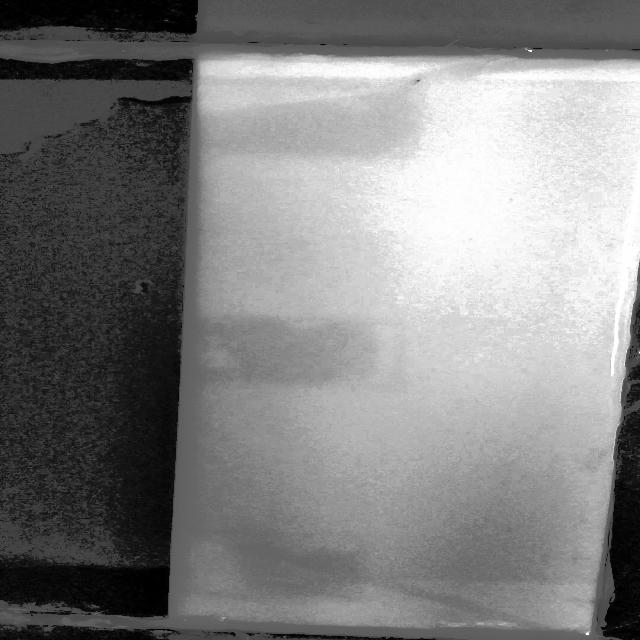shrimp: (404, 73, 429, 86)
